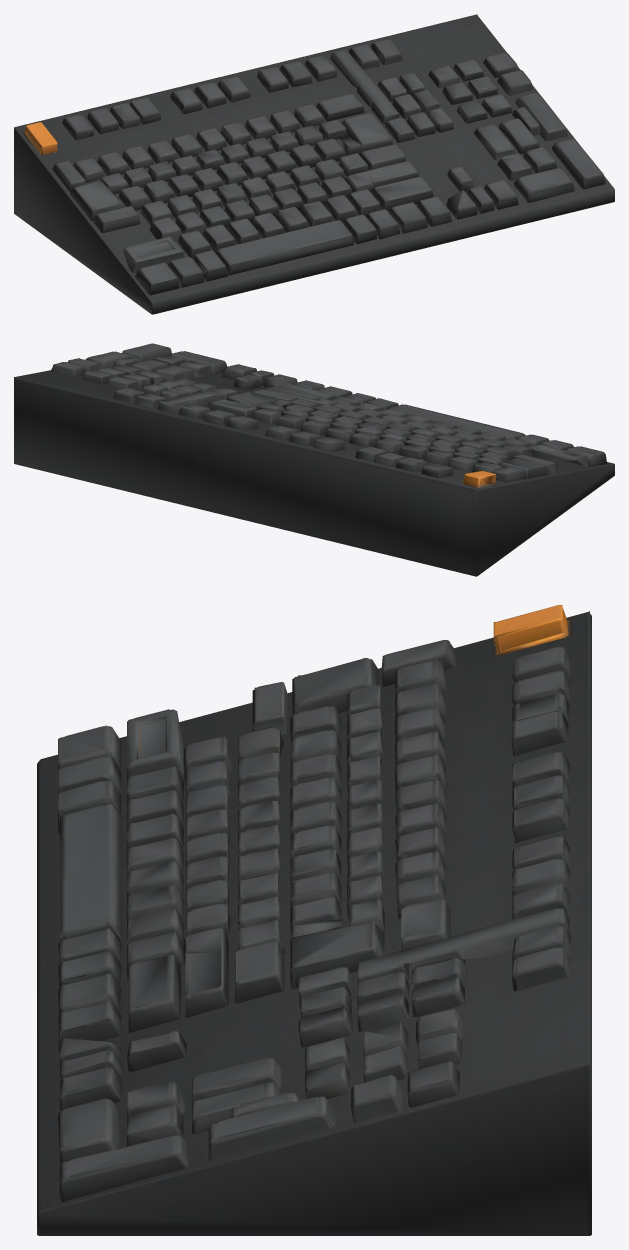
The model's file is keyboard_tripo.glb.
The picture shows the model from 3 angles, top to bottom: view 1: azimuth 30°, elevation 25°; view 2: azimuth 150°, elevation 25°; view 3: azimuth 270°, elevation 25°; orthographic projection. The views are drawn at different scales.
Parts seen in each view (by area): view 1: tripo_node_0c5caa4a-9169-4ed7-bbfc-f90cd06883be; view 2: tripo_node_0c5caa4a-9169-4ed7-bbfc-f90cd06883be; view 3: tripo_node_0c5caa4a-9169-4ed7-bbfc-f90cd06883be.
Boxes of the visible parts, bbox=[...] form: tripo_node_0c5caa4a-9169-4ed7-bbfc-f90cd06883be: bbox=[14, 14, 614, 314]; tripo_node_0c5caa4a-9169-4ed7-bbfc-f90cd06883be: bbox=[14, 343, 614, 576]; tripo_node_0c5caa4a-9169-4ed7-bbfc-f90cd06883be: bbox=[37, 605, 591, 1235].
Size of the model in its own units: 0.441 by 0.0837 by 0.2287.
1 material, 1 textured.
